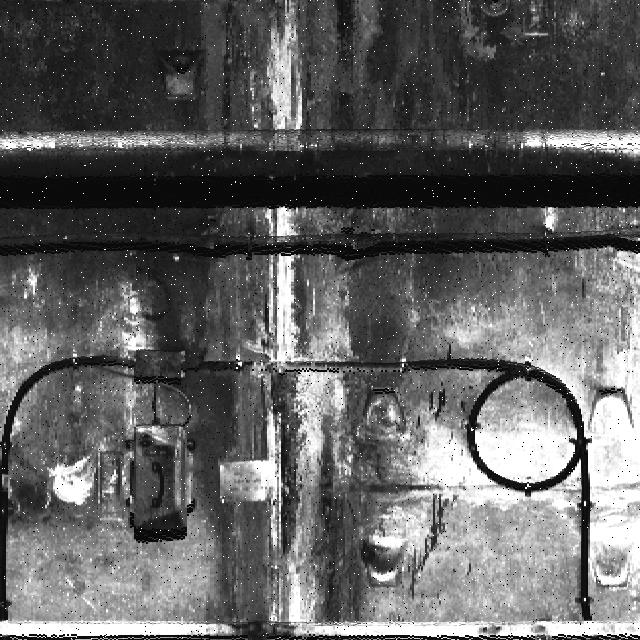leakage: (102, 3, 506, 640)
